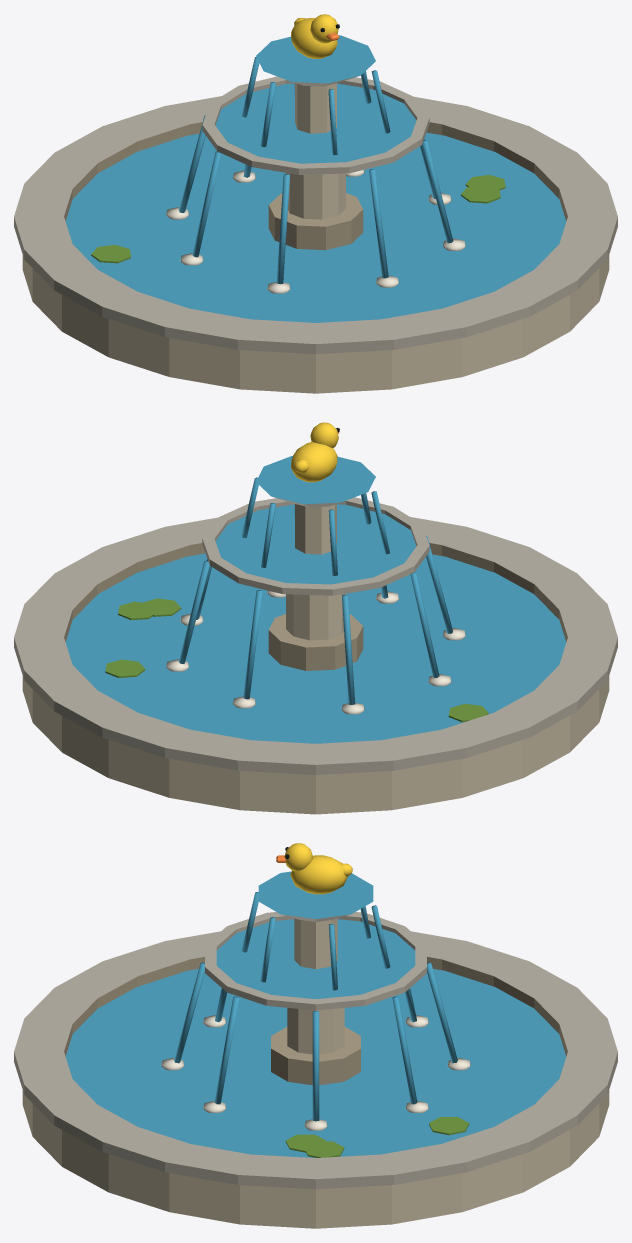
The model's file is plaza_fountain.glb.
3 views of the same model, one above another, from view 1: azimuth 30°, elevation 25°; view 2: azimuth 150°, elevation 25°; view 3: azimuth 270°, elevation 25° (orthographic).
Visible parts, largest first — view 1: LOD0; view 2: LOD0; view 3: LOD0.
Boxes of the visible parts, x1,y1,x2,y2 form: LOD0: [14, 14, 617, 393]; LOD0: [14, 422, 617, 814]; LOD0: [14, 843, 617, 1228].
Bounding box in the file's own units: 7 × 3.33 × 7.
Materials: 1 (1 with a texture image).
